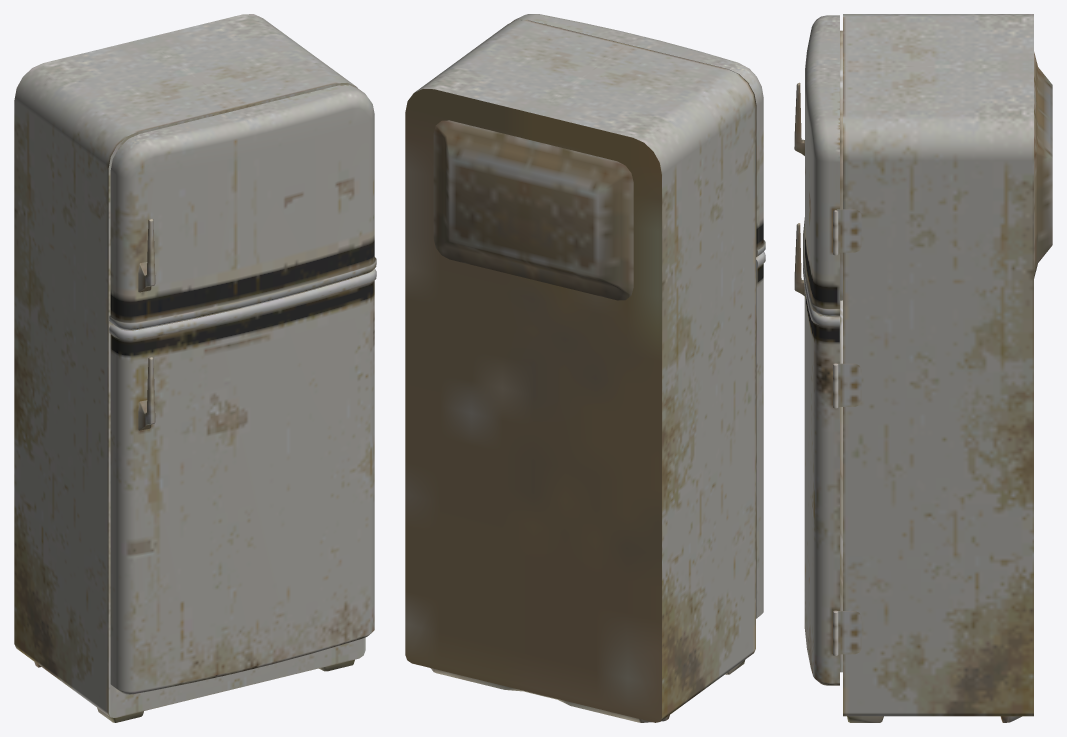
The model's file is 050_refrigerator.fbx.
The picture shows the model from 3 angles, left to right: view 1: azimuth 30°, elevation 25°; view 2: azimuth 150°, elevation 25°; view 3: azimuth 270°, elevation 25°; orthographic projection.
Parts seen in each view (by area): view 1: LOD_1_Group_1_Sub_1__sm31_050_Refrigerator01A_A_Mat, LOD_1_Group_0_Sub_1__sm31_050_Refrigerator01A_A_Mat, LOD_1_Group_2_Sub_1__sm31_050_Refrigerator01A_A_Mat; view 2: LOD_1_Group_0_Sub_1__sm31_050_Refrigerator01A_A_Mat, LOD_1_Group_2_Sub_1__sm31_050_Refrigerator01A_A_Mat, LOD_1_Group_1_Sub_1__sm31_050_Refrigerator01A_A_Mat; view 3: LOD_1_Group_0_Sub_1__sm31_050_Refrigerator01A_A_Mat, LOD_1_Group_1_Sub_1__sm31_050_Refrigerator01A_A_Mat, LOD_1_Group_2_Sub_1__sm31_050_Refrigerator01A_A_Mat.
Part boxes in pixels (<box>): LOD_1_Group_1_Sub_1__sm31_050_Refrigerator01A_A_Mat: <box>109,268,376,694</box>; LOD_1_Group_0_Sub_1__sm31_050_Refrigerator01A_A_Mat: <box>14,14,365,722</box>; LOD_1_Group_2_Sub_1__sm31_050_Refrigerator01A_A_Mat: <box>109,85,376,330</box>; LOD_1_Group_0_Sub_1__sm31_050_Refrigerator01A_A_Mat: <box>405,20,755,722</box>; LOD_1_Group_2_Sub_1__sm31_050_Refrigerator01A_A_Mat: <box>511,14,765,257</box>; LOD_1_Group_1_Sub_1__sm31_050_Refrigerator01A_A_Mat: <box>756,251,765,618</box>; LOD_1_Group_0_Sub_1__sm31_050_Refrigerator01A_A_Mat: <box>837,14,1052,722</box>; LOD_1_Group_1_Sub_1__sm31_050_Refrigerator01A_A_Mat: <box>794,223,842,685</box>; LOD_1_Group_2_Sub_1__sm31_050_Refrigerator01A_A_Mat: <box>794,15,842,316</box>.
Size of the model in its own units: 0.9189 by 1.97 by 0.7712.
